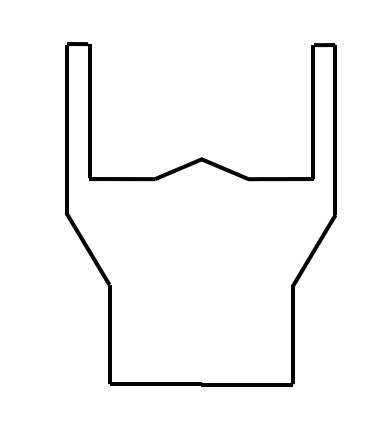nrfp: (52, 26, 344, 198)
